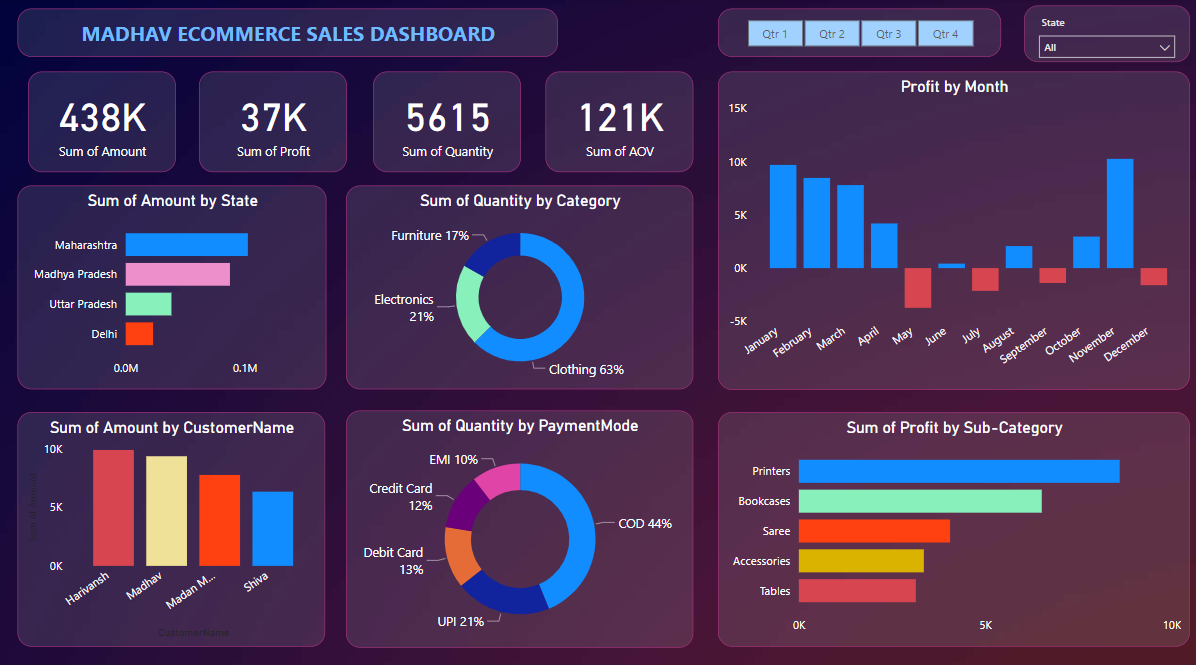

This screenshot's page, from the dashboard's own definition file:
{"tool":"powerbi","page":{"name":"Page 1","canvas":[1280,720],"ordinal":0},"visuals":[{"type":"textbox","box":[27.4,11.3,572.6,51.6],"z":0},{"type":"columnChart","title":" Profit by Month","fields":{"Category":["Orders.Order Date.Variation.Date Hierarchy.Month"],"Y":["Details.Profit"]},"box":[769.4,77.4,500,337.1],"z":1000},{"type":"barChart","fields":{"Category":["Details.Sub-Category"],"Y":["Details.Profit"]},"box":[769.4,438.7,500,248.4],"z":2000},{"type":"donutChart","fields":{"Category":["Details.Category"],"Y":["Details.Quantity"]},"box":[375.8,198.4,367.7,216.1],"z":3000},{"type":"donutChart","fields":{"Y":["Details.Quantity"],"Category":["Details.PaymentMode"]},"box":[375.8,437.1,367.7,251.6],"z":4000},{"type":"card","fields":{"Values":["Details.Amount"]},"box":[38.7,77.4,156.5,106.5],"z":5000},{"type":"card","fields":{"Values":["Details.Quantity"]},"box":[403.2,77.4,156.5,106.5],"z":6000},{"type":"card","fields":{"Values":["Details.Profit"]},"box":[219.4,77.4,156.5,106.5],"z":7000},{"type":"card","fields":{"Values":["Details.AOV"]},"box":[587.1,77.4,156.5,106.5],"z":8000},{"type":"barChart","fields":{"Category":["Orders.State"],"Y":["Details.Amount"]},"box":[27.4,198.4,327.4,216.1],"z":9000},{"type":"columnChart","fields":{"Category":["Orders.CustomerName"],"Y":["Details.Amount"]},"box":[27.4,438.7,325.8,248.4],"z":10000},{"type":"slicer","fields":{"Values":["Orders.Order Date.Variation.Date Hierarchy.Quarter"]},"box":[769.4,11.3,300,51.6],"z":11000},{"type":"slicer","fields":{"Values":["Orders.State"]},"box":[1093.5,8.1,175.8,59.7],"z":12000}]}

Visuals, with their boxes in screenshot pixels (x1, y1, x2, y2), scaled from the page's 1280x720 canvas onto the 1196x665 screenshot:
textbox: Rect(26, 10, 561, 58)
" Profit by Month" columnChart: Rect(719, 71, 1186, 383)
barChart - Details.Sub-Category x Details.Profit: Rect(719, 405, 1186, 635)
donutChart - Details.Category x Details.Quantity: Rect(351, 183, 695, 383)
donutChart - Details.Quantity x Details.PaymentMode: Rect(351, 404, 695, 636)
card - Details.Amount: Rect(36, 71, 182, 170)
card - Details.Quantity: Rect(377, 71, 523, 170)
card - Details.Profit: Rect(205, 71, 351, 170)
card - Details.AOV: Rect(549, 71, 695, 170)
barChart - Orders.State x Details.Amount: Rect(26, 183, 332, 383)
columnChart - Orders.CustomerName x Details.Amount: Rect(26, 405, 330, 635)
slicer - Orders.Order Date.Variation.Date Hierarchy.Quarter: Rect(719, 10, 999, 58)
slicer - Orders.State: Rect(1022, 7, 1186, 63)
